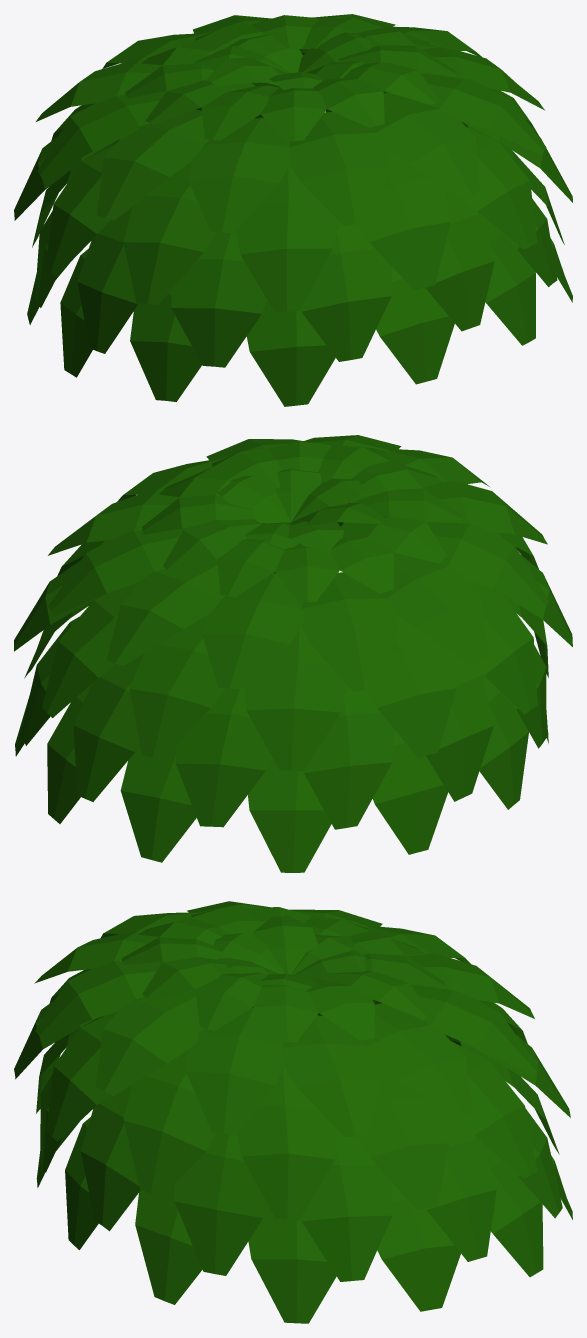
The model's file is Bush.fbx.
3 views of the same model, one above another, from view 1: azimuth 30°, elevation 25°; view 2: azimuth 150°, elevation 25°; view 3: azimuth 270°, elevation 25° (orthographic). The views are drawn at different scales.
Parts seen in each view (by area): view 1: Bush; view 2: Bush; view 3: Bush.
Boxes of the visible parts, x1=… form: Bush: x1=14, y1=14, x2=572, y2=406; Bush: x1=14, y1=435, x2=572, y2=872; Bush: x1=14, y1=901, x2=572, y2=1323.
Bounding box in the file's own units: 57.46 × 30.7 × 57.56.
